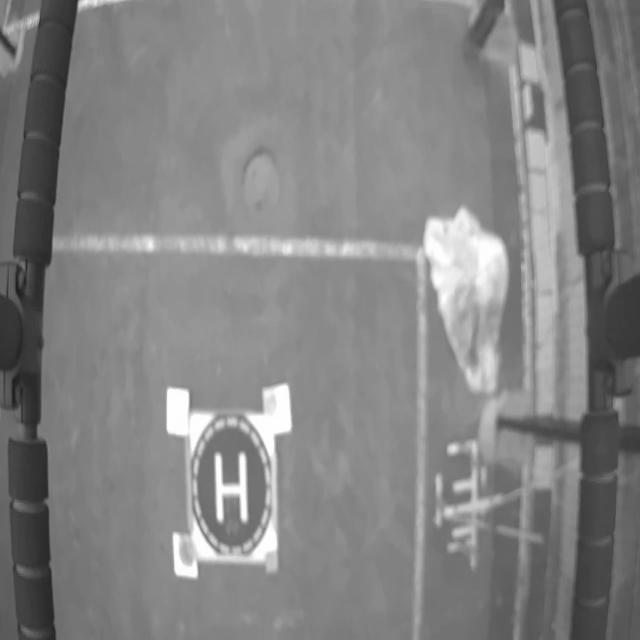Helipad: (214, 451, 249, 525)
